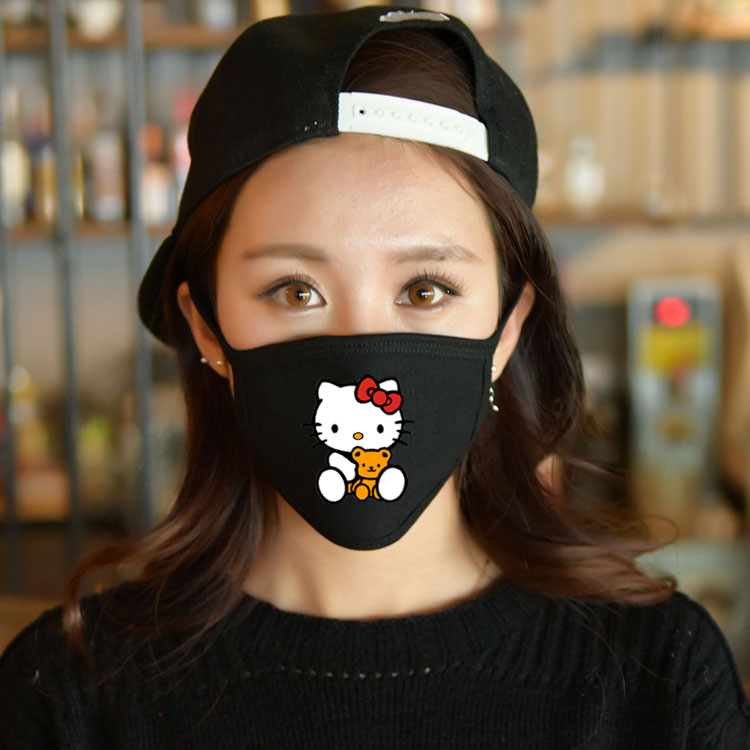face_mask: (218, 139, 497, 527)
